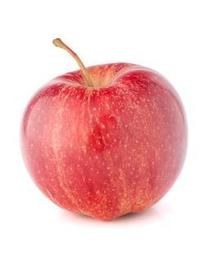apple: (18, 61, 188, 220)
